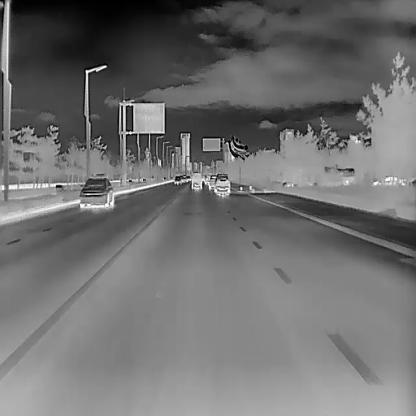car: (78, 173, 113, 208), (212, 172, 230, 194), (190, 172, 201, 190), (207, 175, 214, 189), (204, 174, 212, 184), (173, 174, 181, 184), (178, 174, 186, 183)
